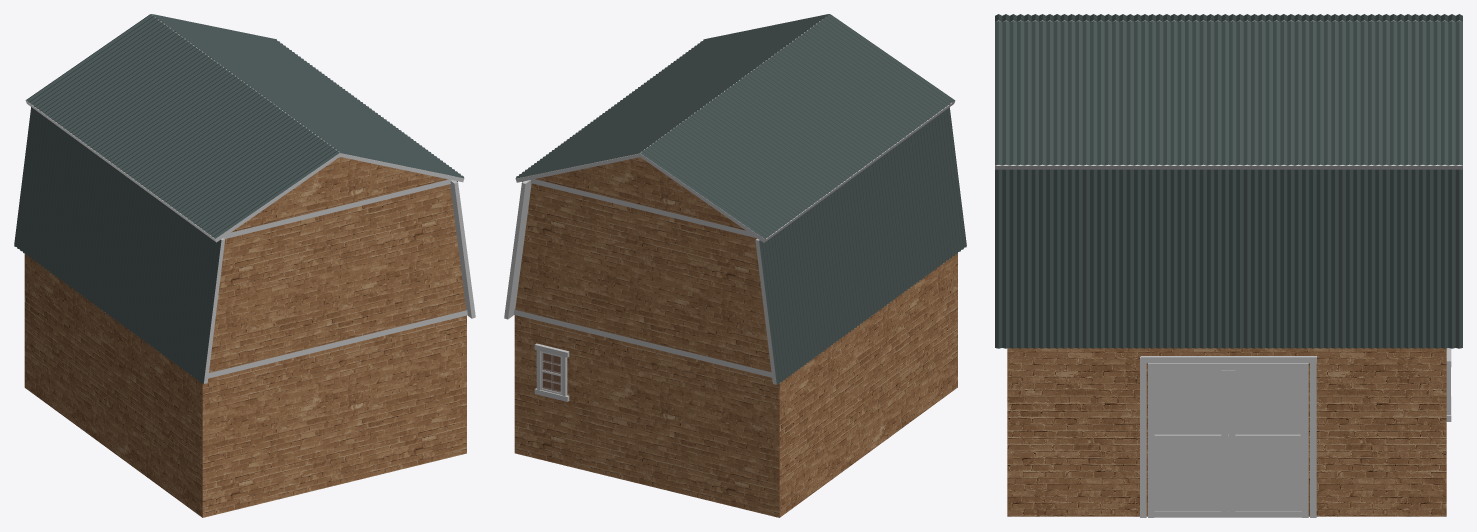
3 views of the same model, side by side, from view 1: azimuth 30°, elevation 25°; view 2: azimuth 150°, elevation 25°; view 3: azimuth 270°, elevation 25° (orthographic). The views are drawn at different scales.
Parts seen in each view (by area): view 1: group7; view 2: group7; view 3: group7, pCube9, pCube30, pCube8, pCube7, pCube36, pCube15, pCube13.
Boxes of the visible parts, x1,y1,x2,y2 form: group7: (14,14,475,517); group7: (504,14,966,517); group7: (995,14,1462,517); pCube9: (1140,356,1316,363); pCube30: (1228,370,1235,511); pCube8: (1140,357,1146,517); pCube7: (1310,363,1316,517); pCube36: (1154,363,1302,369); pCube15: (1154,511,1302,517); pCube13: (1221,370,1227,511).
Size of the model in its own units: 12.47 by 14.64 by 14.91.
